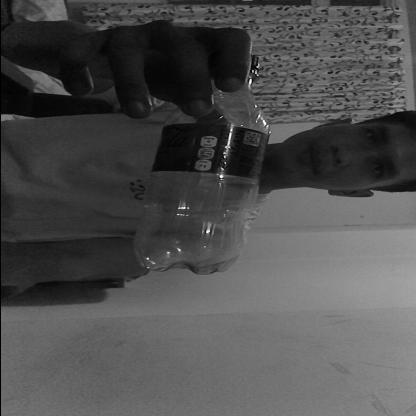plastic_bottles: (132, 52, 268, 276)
